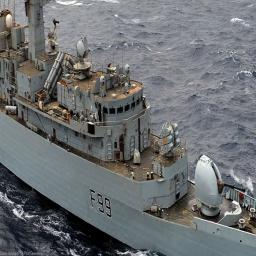Fragata: (1, 1, 252, 179)
